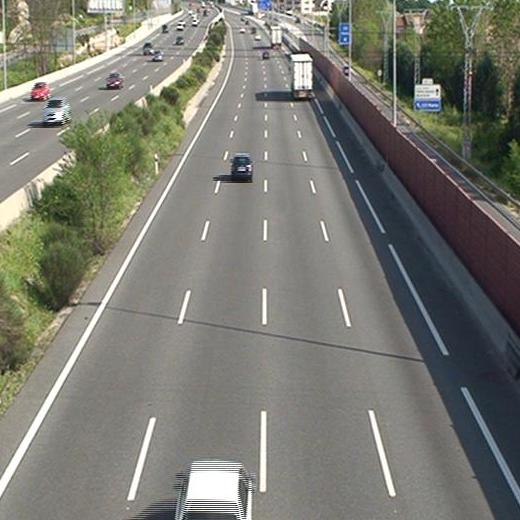car: (231, 156, 253, 178)
truck: (290, 55, 312, 98)
